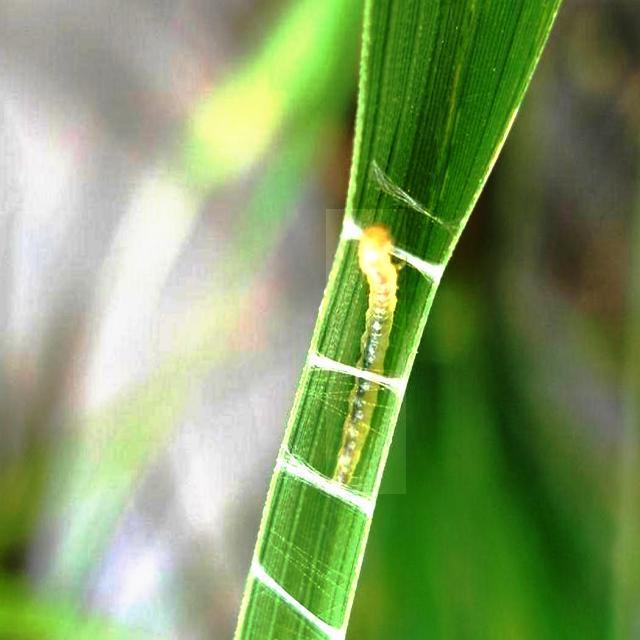leaf-folder: (326, 209, 406, 494)
